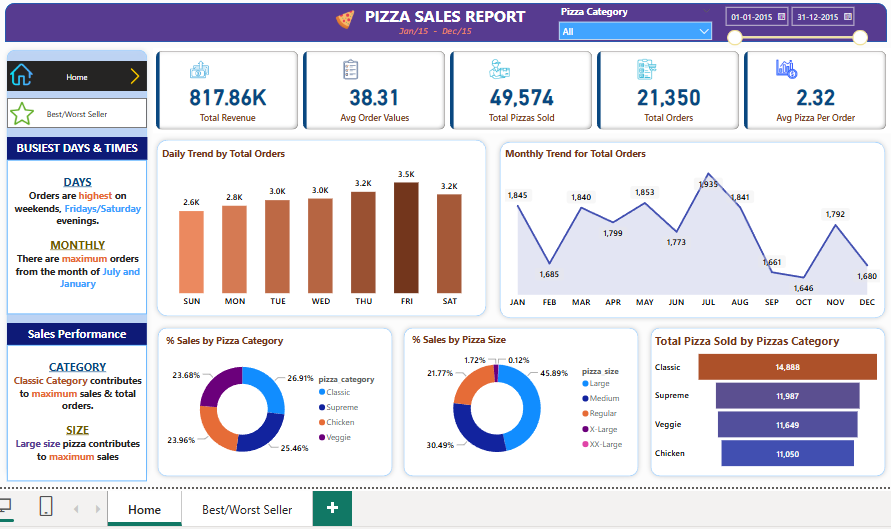

This screenshot's page, from the dashboard's own definition file:
{"tool":"powerbi","page":{"name":"Home","canvas":[1500,820],"ordinal":0},"visuals":[{"type":"cardVisual","fields":{"Data":["pizza_sales.Total Revenue","pizza_sales.Avg Order Values","pizza_sales.Total Pizzas Sold","pizza_sales.Total Orders","pizza_sales.Avg Pizza Per Order"]},"box":[263.3,88.3,1230,141.7],"z":0},{"type":"shape","box":[16.7,13.3,1470,65],"z":1000},{"type":"textbox","box":[605,11.7,290,50],"z":2000},{"type":"textbox","box":[653.3,46.7,160,36.7],"z":3000},{"type":"image","box":[561.7,20,43.3,41.7],"z":4000},{"type":"shape","box":[261.7,233.3,565,310],"z":5000},{"type":"columnChart","title":"Daily Trend by Total Orders","fields":{"Y":["pizza_sales.Total Orders"],"Category":["pizza_sales.Order Day"]},"box":[273.3,253.3,540,276.7],"z":6000},{"type":"shape","box":[833.3,236.7,658.3,310],"z":7000},{"type":"shape","box":[11.7,83.3,250,728.3],"z":8000},{"type":"areaChart","title":"Monthly Trend for Total Orders","fields":{"Category":["pizza_sales.Order Month"],"Y":["pizza_sales.Total Orders"]},"box":[845,253.3,635,278.3],"z":9000},{"type":"shape","box":[1085,546.7,406.7,263.3],"z":10000},{"type":"shape","box":[673.3,546.7,406.7,263.3],"z":11000},{"type":"shape","box":[263.3,546.7,406.7,263.3],"z":12000},{"type":"donutChart","title":"% Sales by Pizza Category","fields":{"Y":["pizza_sales.Total Revenue"],"Category":["pizza_sales.pizza_category"]},"box":[280,565,373.3,230],"z":13000},{"type":"donutChart","title":"% Sales by Pizza Size","fields":{"Y":["pizza_sales.Total Revenue"],"Category":["pizza_sales.pizza_size"]},"box":[690,563.3,373.3,230],"z":14000},{"type":"funnel","title":"Total Pizza Sold by Pizzas Category","fields":{"Category":["pizza_sales.pizza_category"],"Y":["pizza_sales.Total Pizzas Sold"]},"box":[1095,563.3,385,231.7],"z":15000},{"type":"textbox","box":[19.5,236.8,233.6,38.3],"z":16000},{"type":"textbox","box":[20,275,233.3,256.7],"z":17000},{"type":"textbox","box":[20,546.7,233.3,38.3],"z":18000},{"type":"textbox","box":[20,583.3,233.3,226.7],"z":19000},{"type":"slicer","title":"Pizza Category","fields":{"Values":["pizza_sales.pizza_category"]},"box":[930,11.7,275,71.7],"z":20000},{"type":"slicer","title":"Pizza Category","fields":{"Values":["pizza_sales.order_date"]},"box":[1205,10,258.3,78.3],"z":21000},{"type":"pageNavigator","box":[20,110,233.3,50],"z":22000},{"type":"pageNavigator","box":[20,171.7,233.3,50],"z":23000},{"type":"image","box":[215,111.7,36.7,46.7],"z":24000},{"type":"image","box":[20,103.3,48.3,58.3],"z":25000},{"type":"image","box":[20,168.3,50,58.3],"z":26000}]}

Visuals, with their boxes on the page's 1500x820 design canvas (x1, y1, x2, y2). These are canvas units, not pixel positions in the 891x529 screenshot, which may show the page scaled, cropped or inside an application window:
cardVisual - pizza_sales.Total Revenue x pizza_sales.Avg Order Values: box=[263, 88, 1493, 230]
shape: box=[17, 13, 1487, 78]
textbox: box=[605, 12, 895, 62]
textbox: box=[653, 47, 813, 83]
image: box=[562, 20, 605, 62]
shape: box=[262, 233, 827, 543]
"Daily Trend by Total Orders" columnChart: box=[273, 253, 813, 530]
shape: box=[833, 237, 1492, 547]
shape: box=[12, 83, 262, 812]
"Monthly Trend for Total Orders" areaChart: box=[845, 253, 1480, 532]
shape: box=[1085, 547, 1492, 810]
shape: box=[673, 547, 1080, 810]
shape: box=[263, 547, 670, 810]
"% Sales by Pizza Category" donutChart: box=[280, 565, 653, 795]
"% Sales by Pizza Size" donutChart: box=[690, 563, 1063, 793]
"Total Pizza Sold by Pizzas Category" funnel: box=[1095, 563, 1480, 795]
textbox: box=[20, 237, 253, 275]
textbox: box=[20, 275, 253, 532]
textbox: box=[20, 547, 253, 585]
textbox: box=[20, 583, 253, 810]
"Pizza Category" slicer: box=[930, 12, 1205, 83]
"Pizza Category" slicer: box=[1205, 10, 1463, 88]
pageNavigator: box=[20, 110, 253, 160]
pageNavigator: box=[20, 172, 253, 222]
image: box=[215, 112, 252, 158]
image: box=[20, 103, 68, 162]
image: box=[20, 168, 70, 227]
